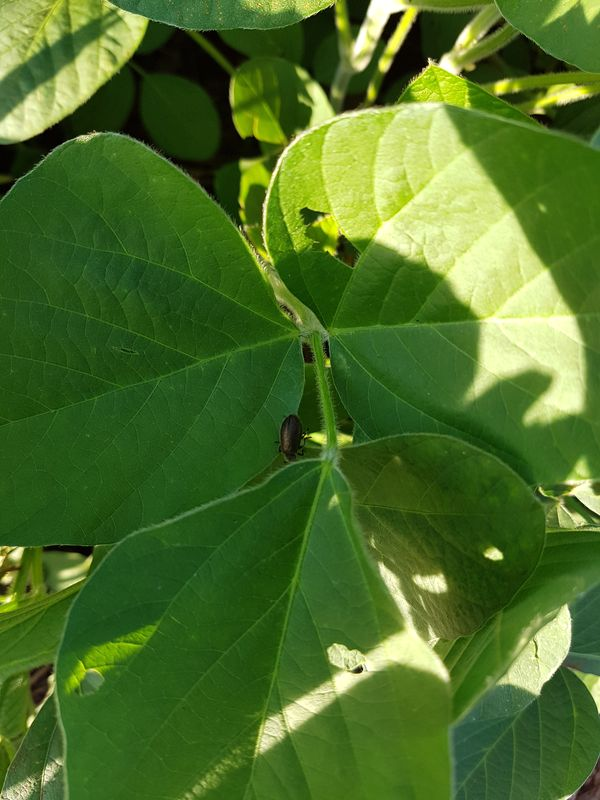Lagria_villosa: (265, 406, 317, 468)
